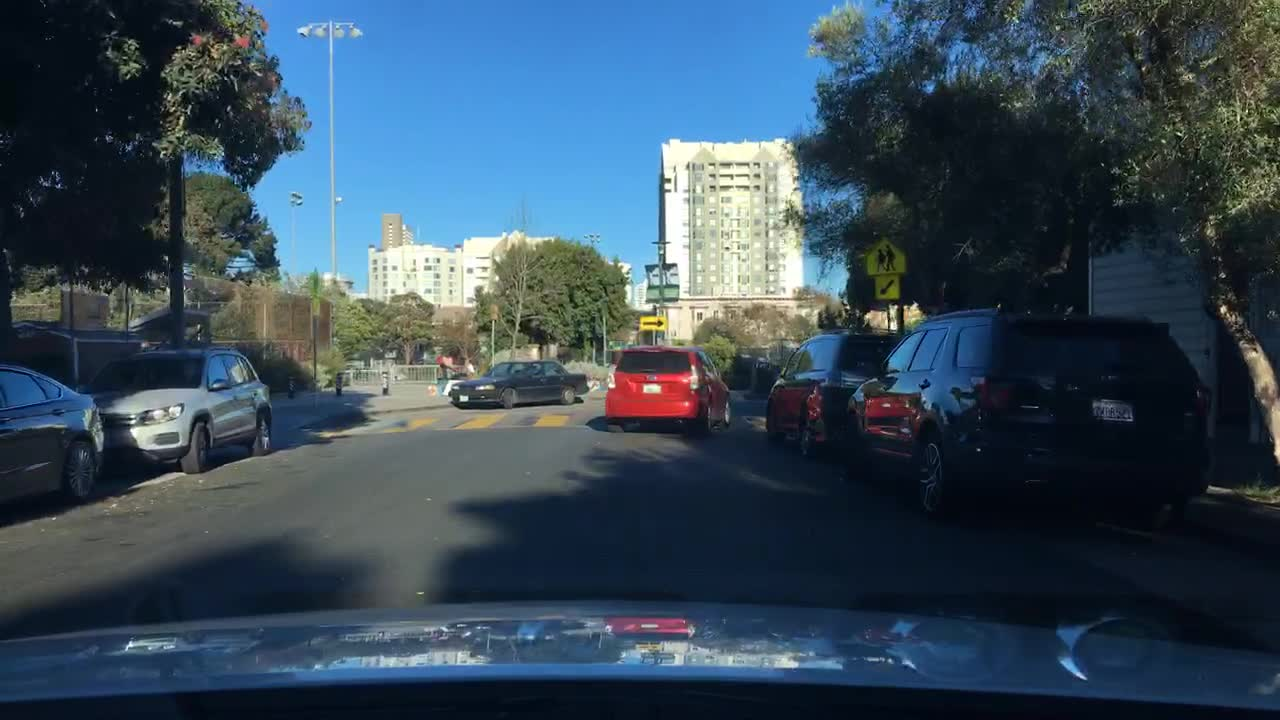car: (845, 301, 1214, 529), (77, 347, 274, 474), (762, 330, 913, 464), (1, 361, 103, 513), (601, 344, 732, 434), (445, 355, 589, 406)
traffic sign: (863, 236, 907, 274), (873, 277, 900, 301), (637, 315, 665, 329)
